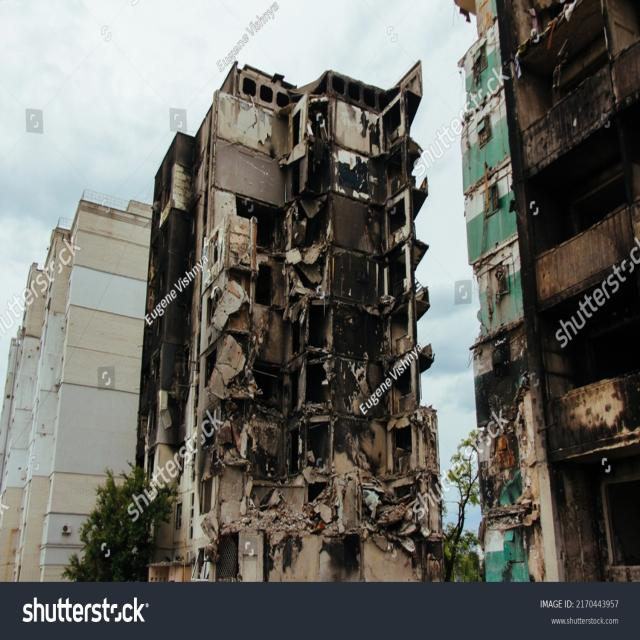Destroyed_building: (0, 2, 640, 579)
